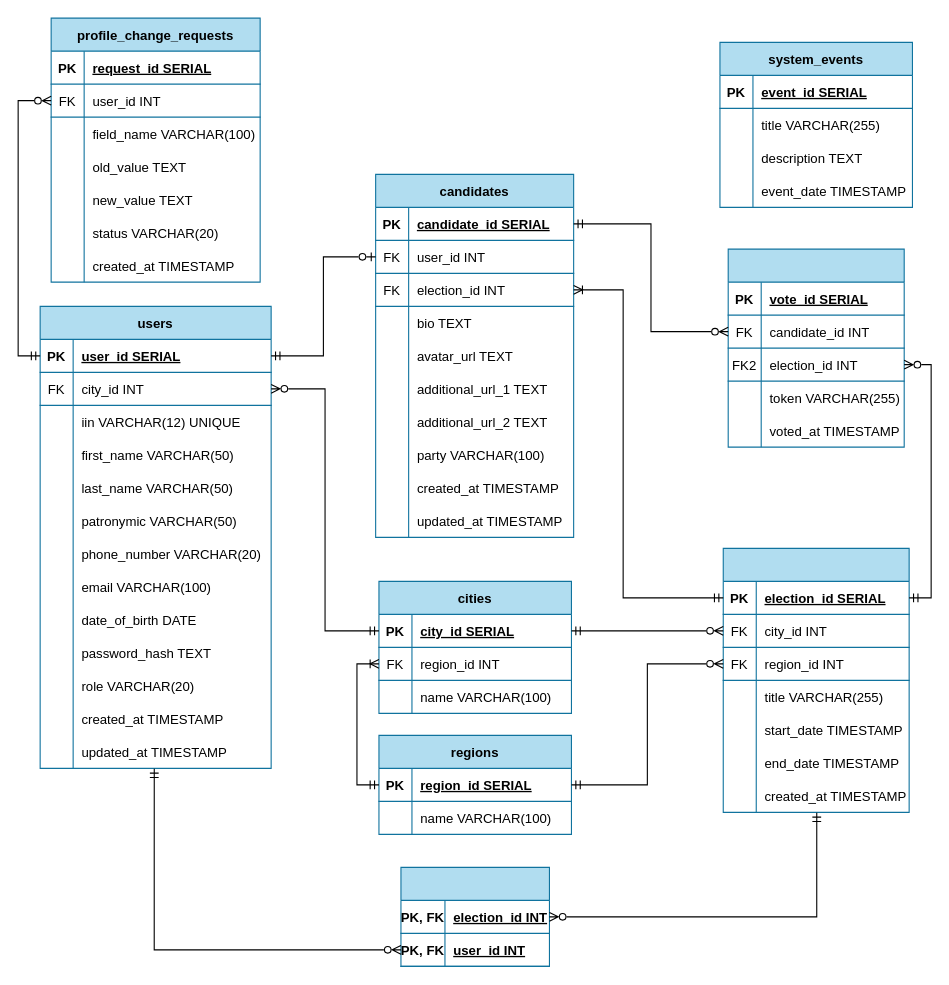
Image size: 949x985. Some labels were removed from this diagram. Each missing label, with the box of its shape:
elections: (722, 547, 909, 812)
is_voted: (400, 866, 549, 966)
voters: (727, 248, 904, 447)
